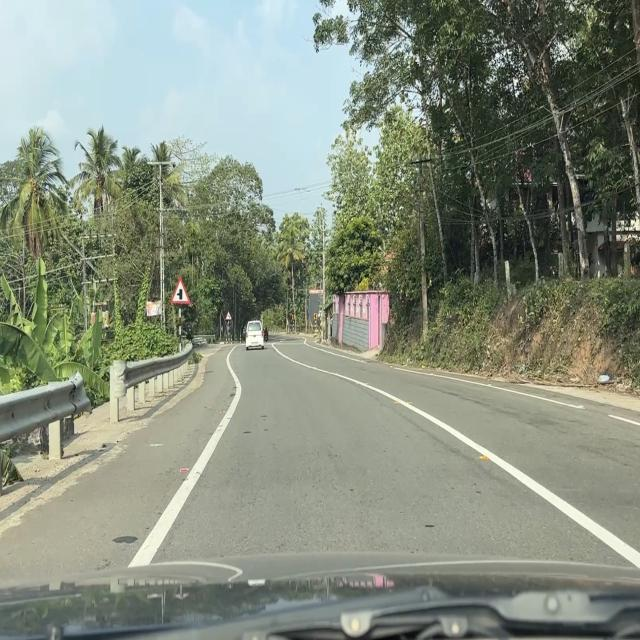SIDE_ROAD_LEFT: (171, 276, 190, 304)
